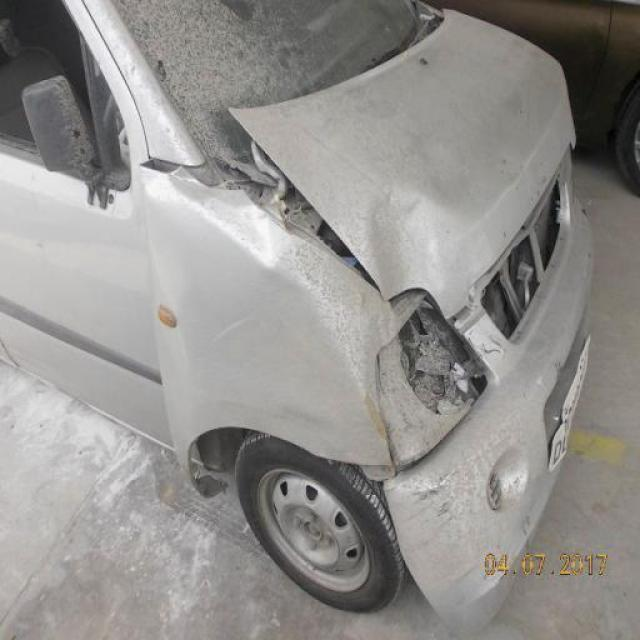Car-Damage: (138, 108, 386, 301), (371, 288, 492, 473), (367, 188, 494, 324)
